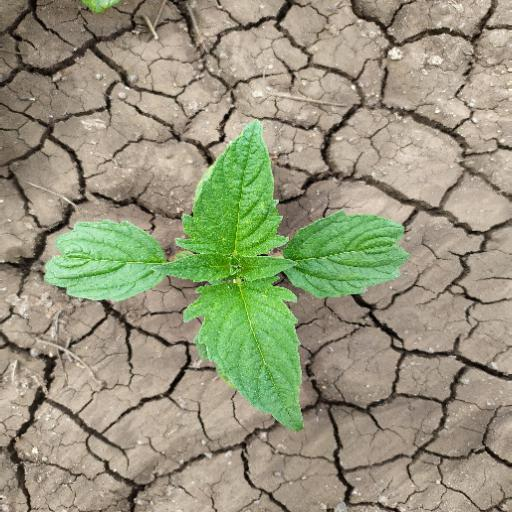crop: (39, 115, 414, 430)
